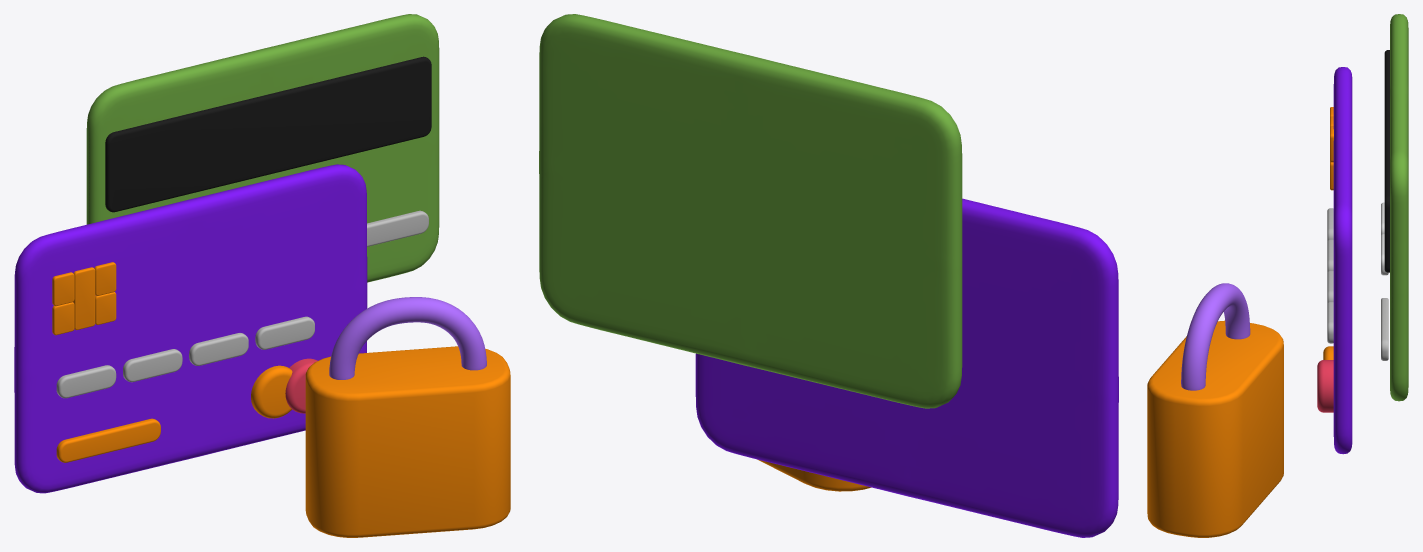
Rendered from cvv-secured-banking-animated-3d-icon-937850685618.glb.
3 views of the same model, side by side, from view 1: azimuth 30°, elevation 25°; view 2: azimuth 150°, elevation 25°; view 3: azimuth 270°, elevation 25° (orthographic). The views are drawn at different scales.
Visible parts, largest first — view 1: Card, Lock Base, Card Base, Plane.007, Lock.006, Plane.004, Plane.005, Plane.006, Circle.001, Plane.010, Circle.002; view 2: Card Base, Card, Lock Base; view 3: Lock Base, Card, Card Base, Lock.006, Plane.007, Plane.004, Circle.002, Plane.010, Plane.005.
Boxes of the visible parts, left/top/right/bottom form: Card: left=14, top=164, right=367, bottom=493; Lock Base: left=305, top=346, right=510, bottom=537; Card Base: left=86, top=14, right=439, bottom=282; Plane.007: left=105, top=56, right=431, bottom=212; Lock.006: left=329, top=297, right=486, bottom=379; Plane.004: left=56, top=316, right=314, bottom=398; Plane.005: left=52, top=262, right=116, bottom=335; Plane.006: left=56, top=418, right=160, bottom=462; Circle.001: left=251, top=365, right=292, bottom=418; Plane.010: left=367, top=210, right=428, bottom=246; Circle.002: left=285, top=358, right=317, bottom=413; Card Base: left=539, top=14, right=962, bottom=408; Card: left=695, top=198, right=1118, bottom=537; Lock Base: left=757, top=459, right=871, bottom=491; Lock Base: left=1147, top=320, right=1283, bottom=537; Card: left=1333, top=67, right=1352, bottom=454; Card Base: left=1390, top=14, right=1408, bottom=401; Lock.006: left=1181, top=283, right=1250, bottom=390; Plane.007: left=1384, top=50, right=1389, bottom=272; Plane.004: left=1327, top=208, right=1333, bottom=343; Circle.002: left=1317, top=360, right=1333, bottom=412; Plane.010: left=1381, top=298, right=1388, bottom=360; Plane.005: left=1330, top=107, right=1333, bottom=190.
Size of what is drawn, in the model's own units: 2.38 by 2.05 by 1.24.
